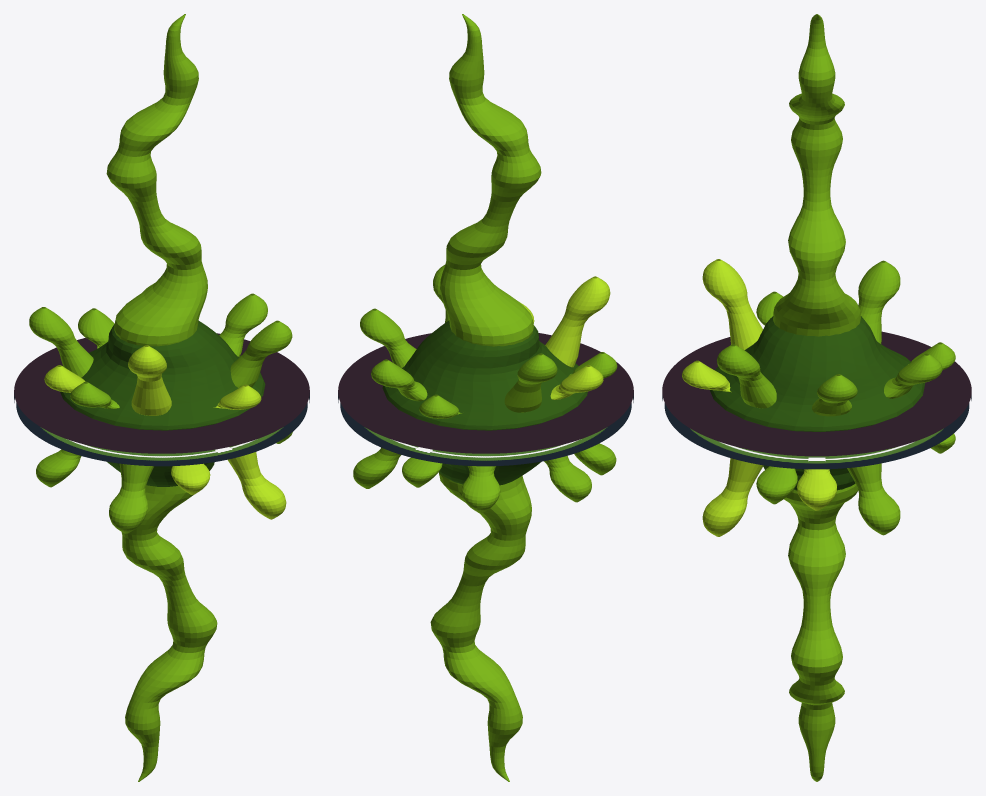
The picture shows the model from 3 angles, left to right: view 1: azimuth 30°, elevation 25°; view 2: azimuth 150°, elevation 25°; view 3: azimuth 270°, elevation 25°; orthographic projection. The views are drawn at different scales.
Size of the model in its own units: 3.2 by 9.02 by 3.2.
Materials: 25 (25 with a texture image).
